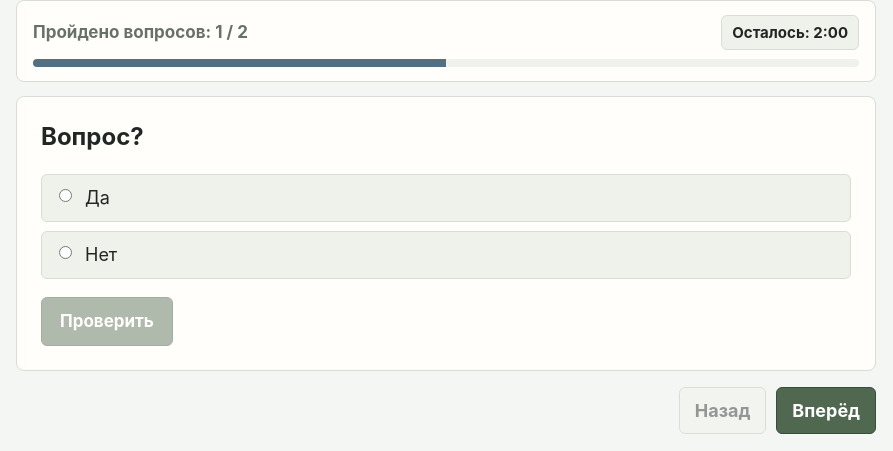
QuizContainer › uses container next and previous navigation callbacks
What coordinates should you click on to do the following:
click the button "Вперёд"
I would click on:
 (826, 411)
Its box is [776,387,876,434].
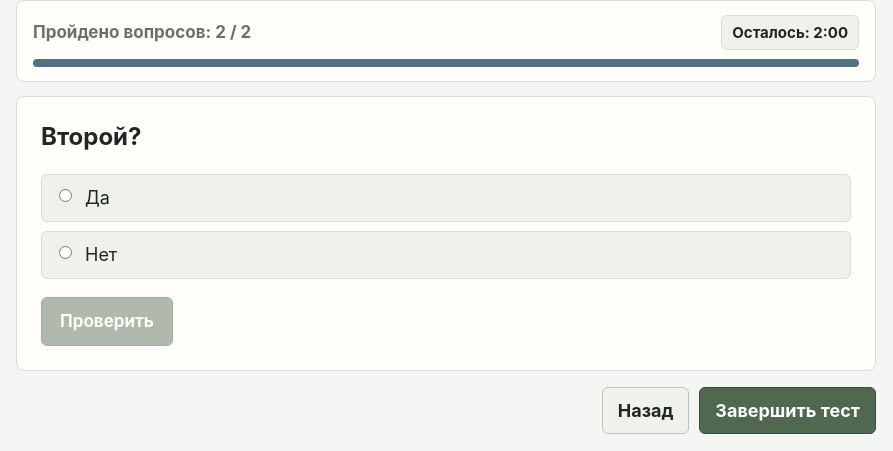
Check: the heading "Второй?" is shown, box [41,122,142,151]
What coordinates should you click on to do the following:
click the button "Назад"
I would click on:
 (646, 411)
Its box is [602,387,689,434].
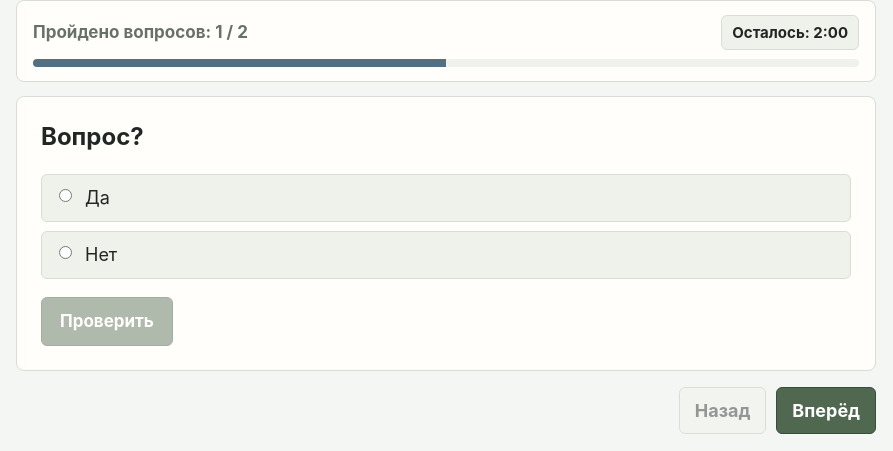
Check: the heading "Вопрос?" is shown, box [41,122,144,151]
